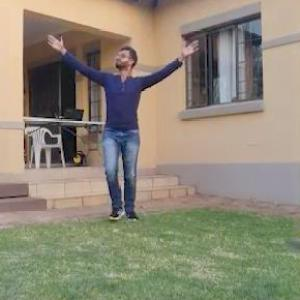takeoff: (60, 42, 205, 226)
